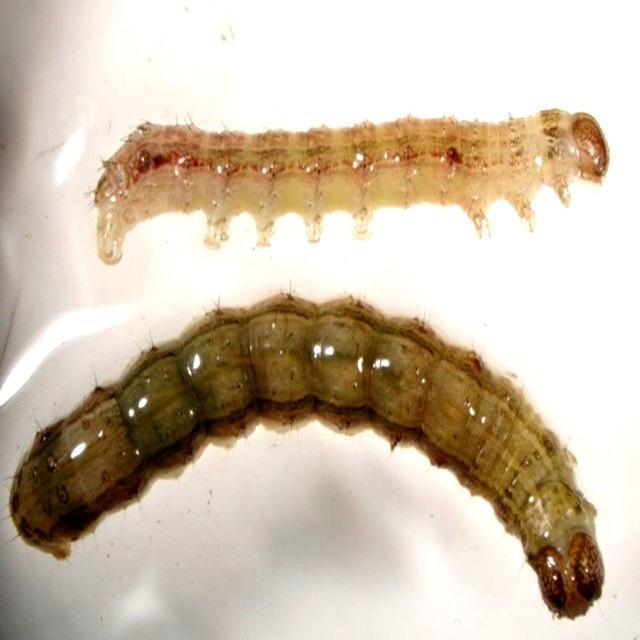gusano_cogollero: (5, 295, 607, 615), (86, 109, 608, 258)
